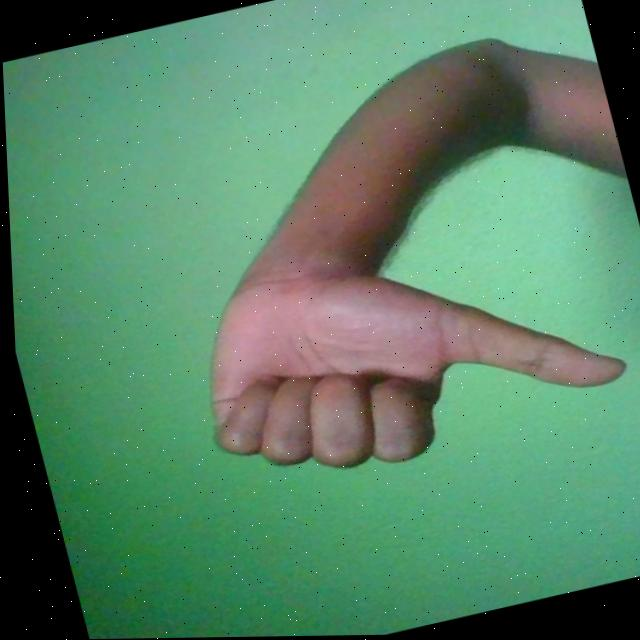Dislike: (172, 208, 635, 500)
